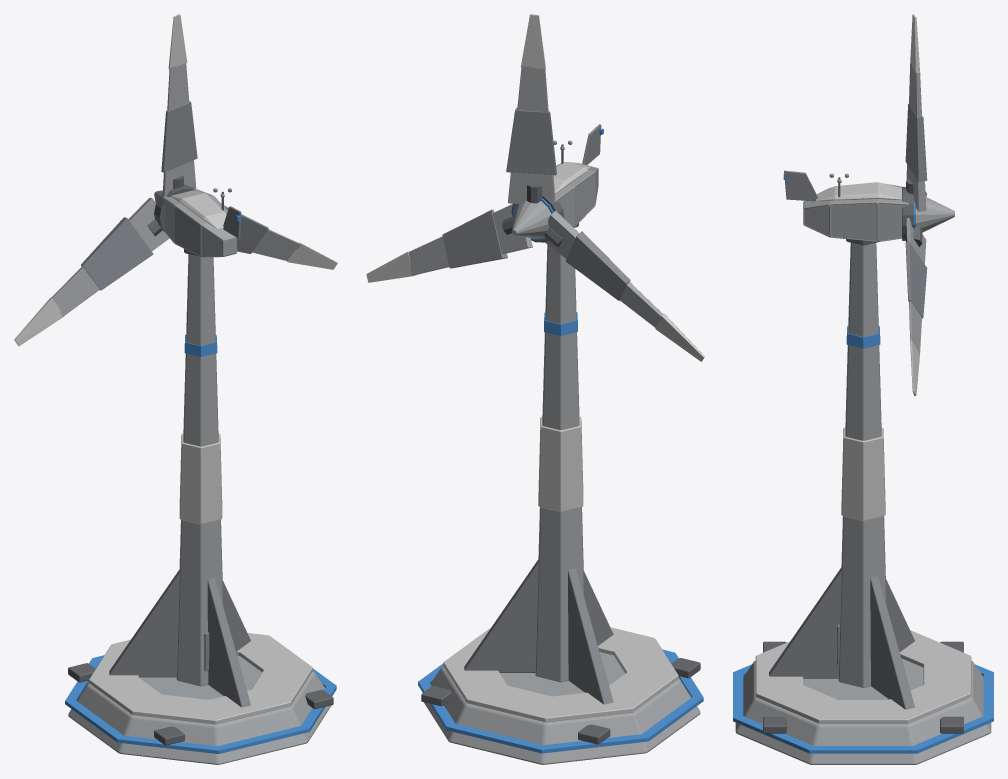
File: lattice_wind_turbine.glb
3 views of the same model, side by side, from view 1: azimuth 30°, elevation 25°; view 2: azimuth 150°, elevation 25°; view 3: azimuth 270°, elevation 25° (orthographic). The views are drawn at different scales.
Parts seen in each view (by area): view 1: Body, Rotor_Z; view 2: Body, Rotor_Z; view 3: Body, Rotor_Z.
Part boxes in pixels (x1,y1,x2,y2): Body: [65, 188, 336, 764]; Rotor_Z: [14, 14, 337, 346]; Body: [418, 124, 703, 764]; Rotor_Z: [366, 14, 704, 361]; Body: [733, 170, 993, 764]; Rotor_Z: [902, 14, 954, 395].
Bounding box in the file's own units: 7.96 × 15.95 × 5.41.
